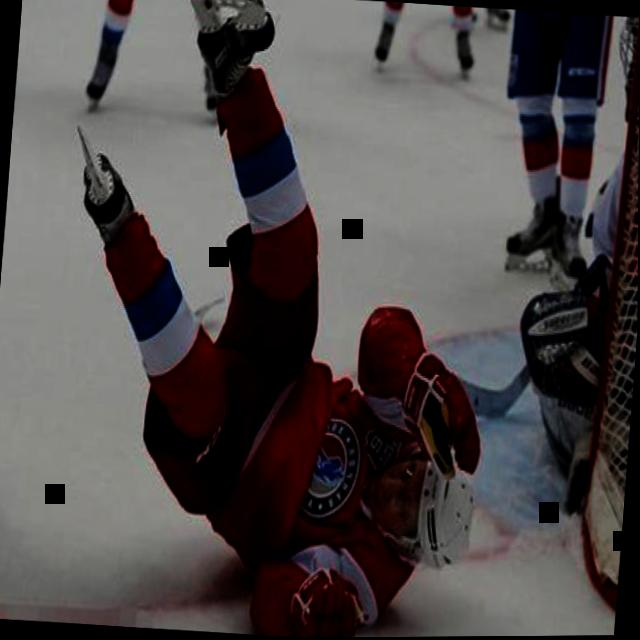Fall-Detected: (25, 0, 510, 640)
